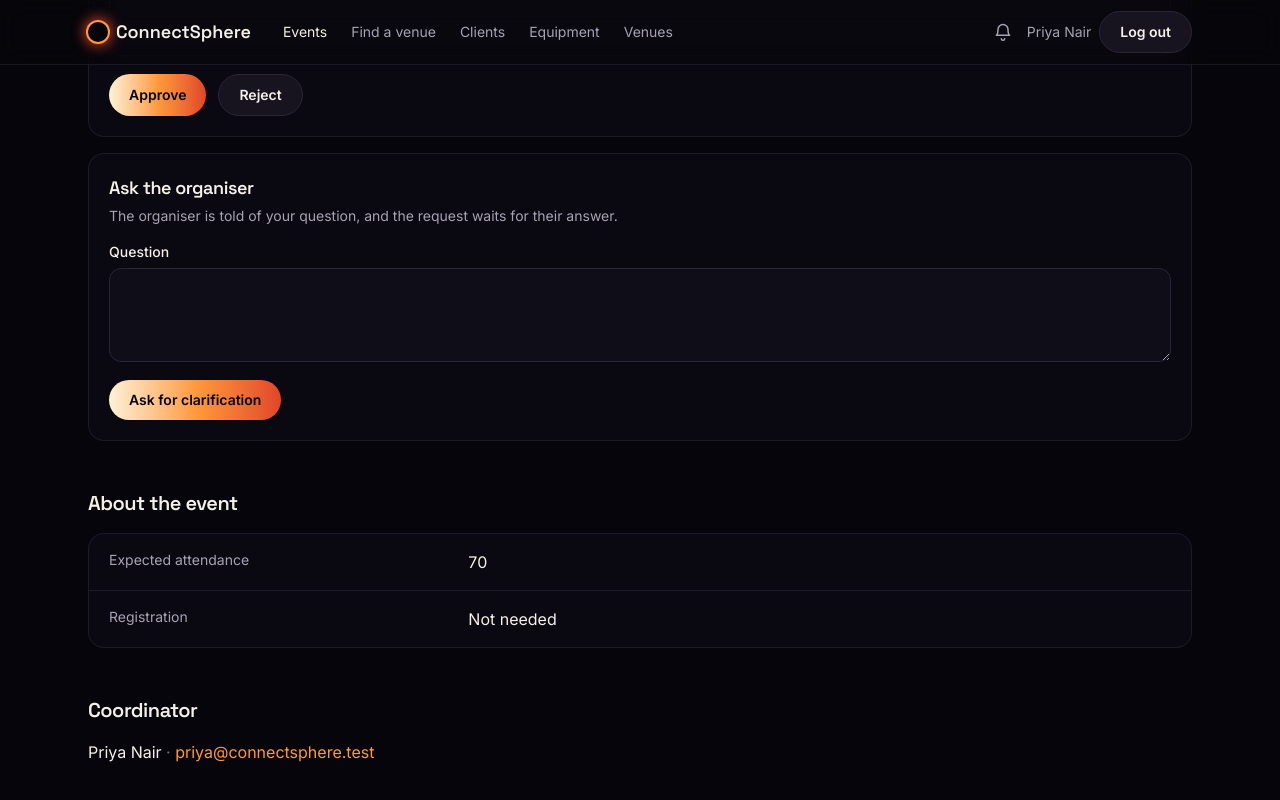
SCRUM-32 AC1, AC4 asking the organiser a question › says it is busy while the question is being sent
(page scrolled)
What coordinates should you click on to do the following:
click the button "Ask for clarification"
I would click on:
 (195, 400)
Its box is [109, 380, 281, 420].
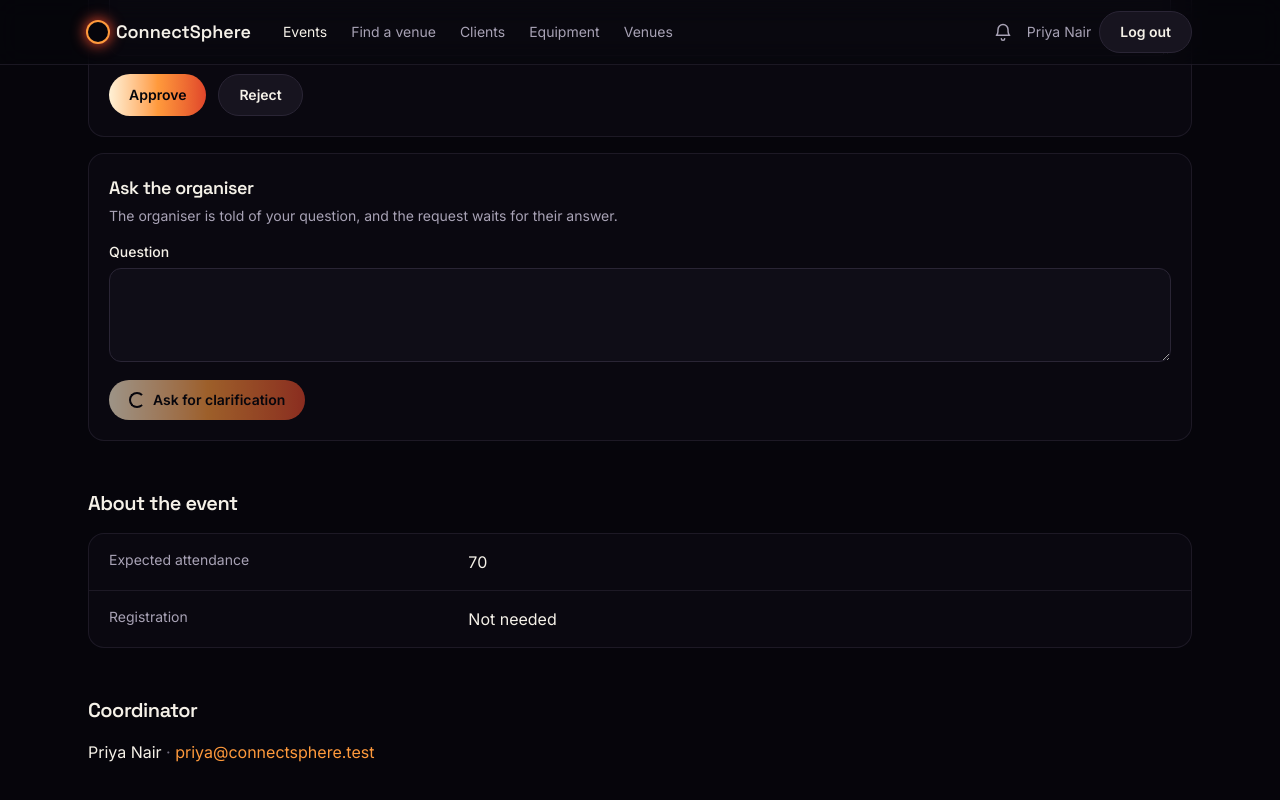
Expected: the button "Ask for clarification" is disabled, [109, 380, 305, 420]
